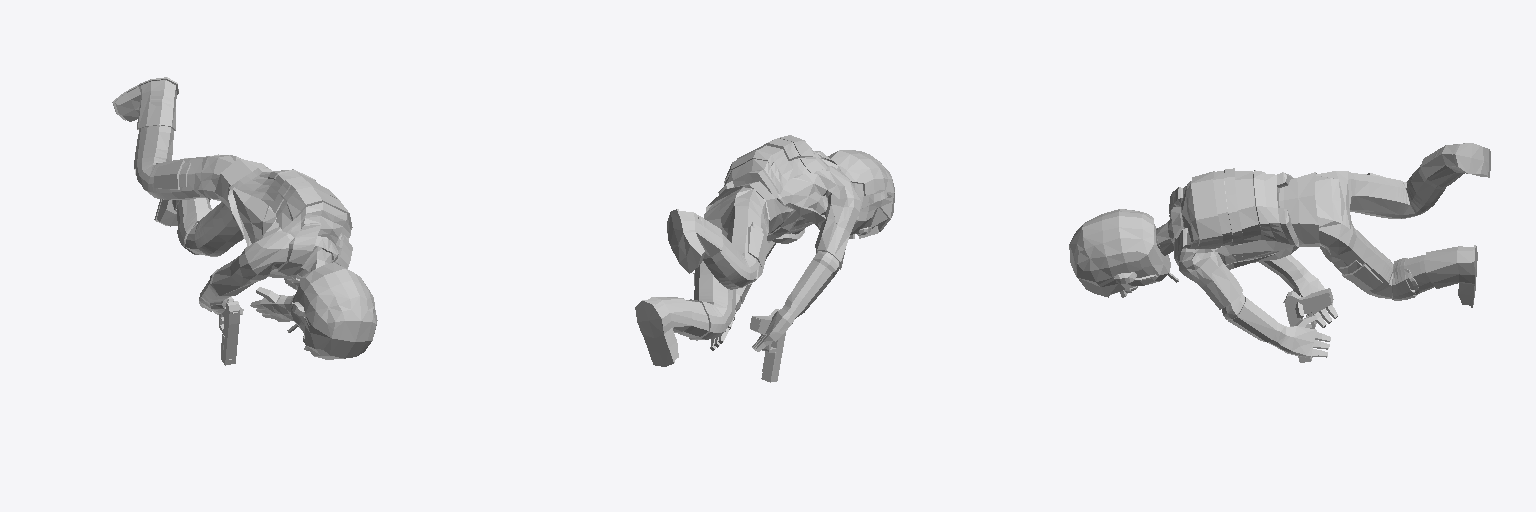
Rendered from frame_0039.obj.
The picture shows the model from 3 angles: view 1: azimuth 30°, elevation 25°; view 2: azimuth 150°, elevation 25°; view 3: azimuth 270°, elevation 25°; orthographic projection.
Visible parts, largest first — view 1: Body, Gun; view 2: Body, Gun; view 3: Body, Gun.
Boxes of the visible parts, x1,y1,x2,y2 form: Body: [112, 77, 377, 359]; Gun: [219, 296, 239, 365]; Body: [635, 135, 894, 366]; Gun: [750, 309, 785, 382]; Body: [1069, 143, 1490, 357]; Gun: [1283, 288, 1333, 362].
Size of the model in its own units: 1.25 by 2.3 by 3.9.